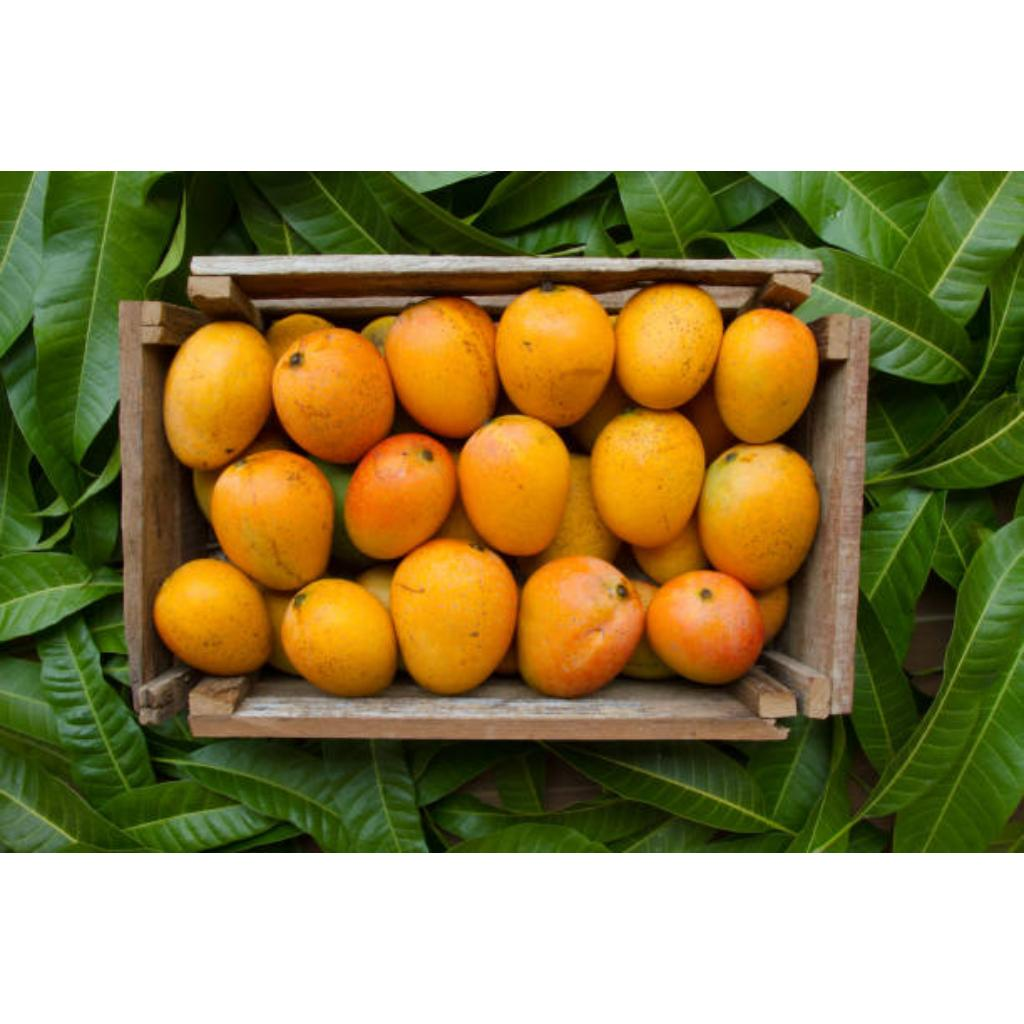mango: (390, 539, 518, 694), (516, 555, 644, 698), (698, 443, 820, 591), (496, 283, 614, 427), (212, 451, 334, 590), (590, 409, 706, 548), (164, 321, 272, 470), (274, 329, 392, 463), (384, 297, 496, 438), (458, 415, 570, 556), (344, 433, 456, 559), (714, 309, 818, 442), (614, 283, 722, 410), (154, 561, 272, 677), (646, 571, 764, 684), (282, 583, 398, 696)
